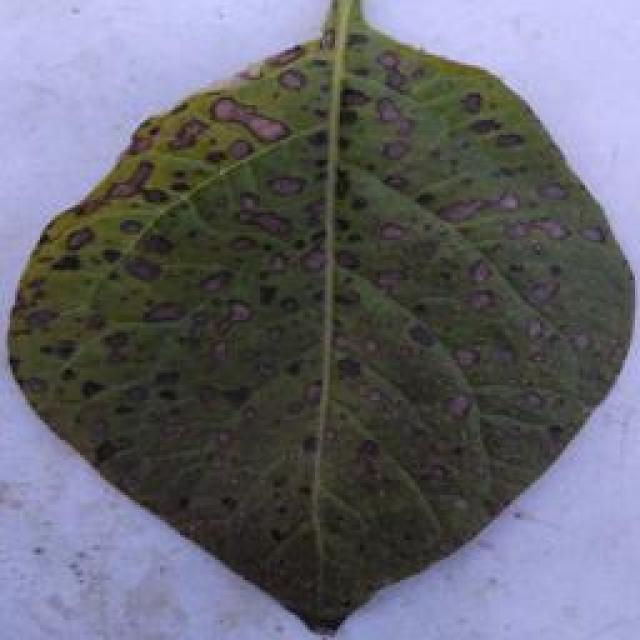Potato_Early_Blight: (6, 18, 630, 640)
